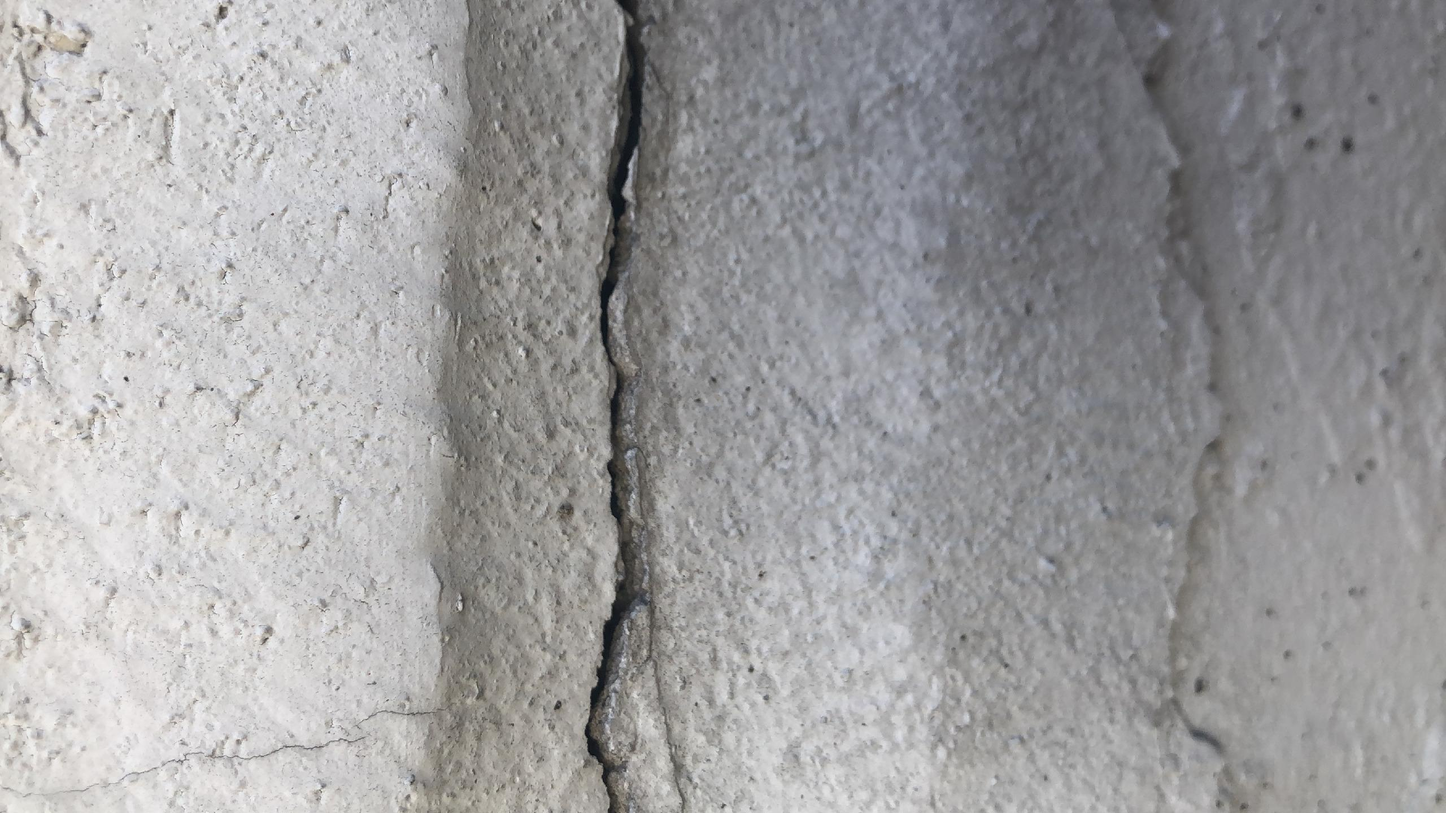crack: (579, 0, 650, 812)
